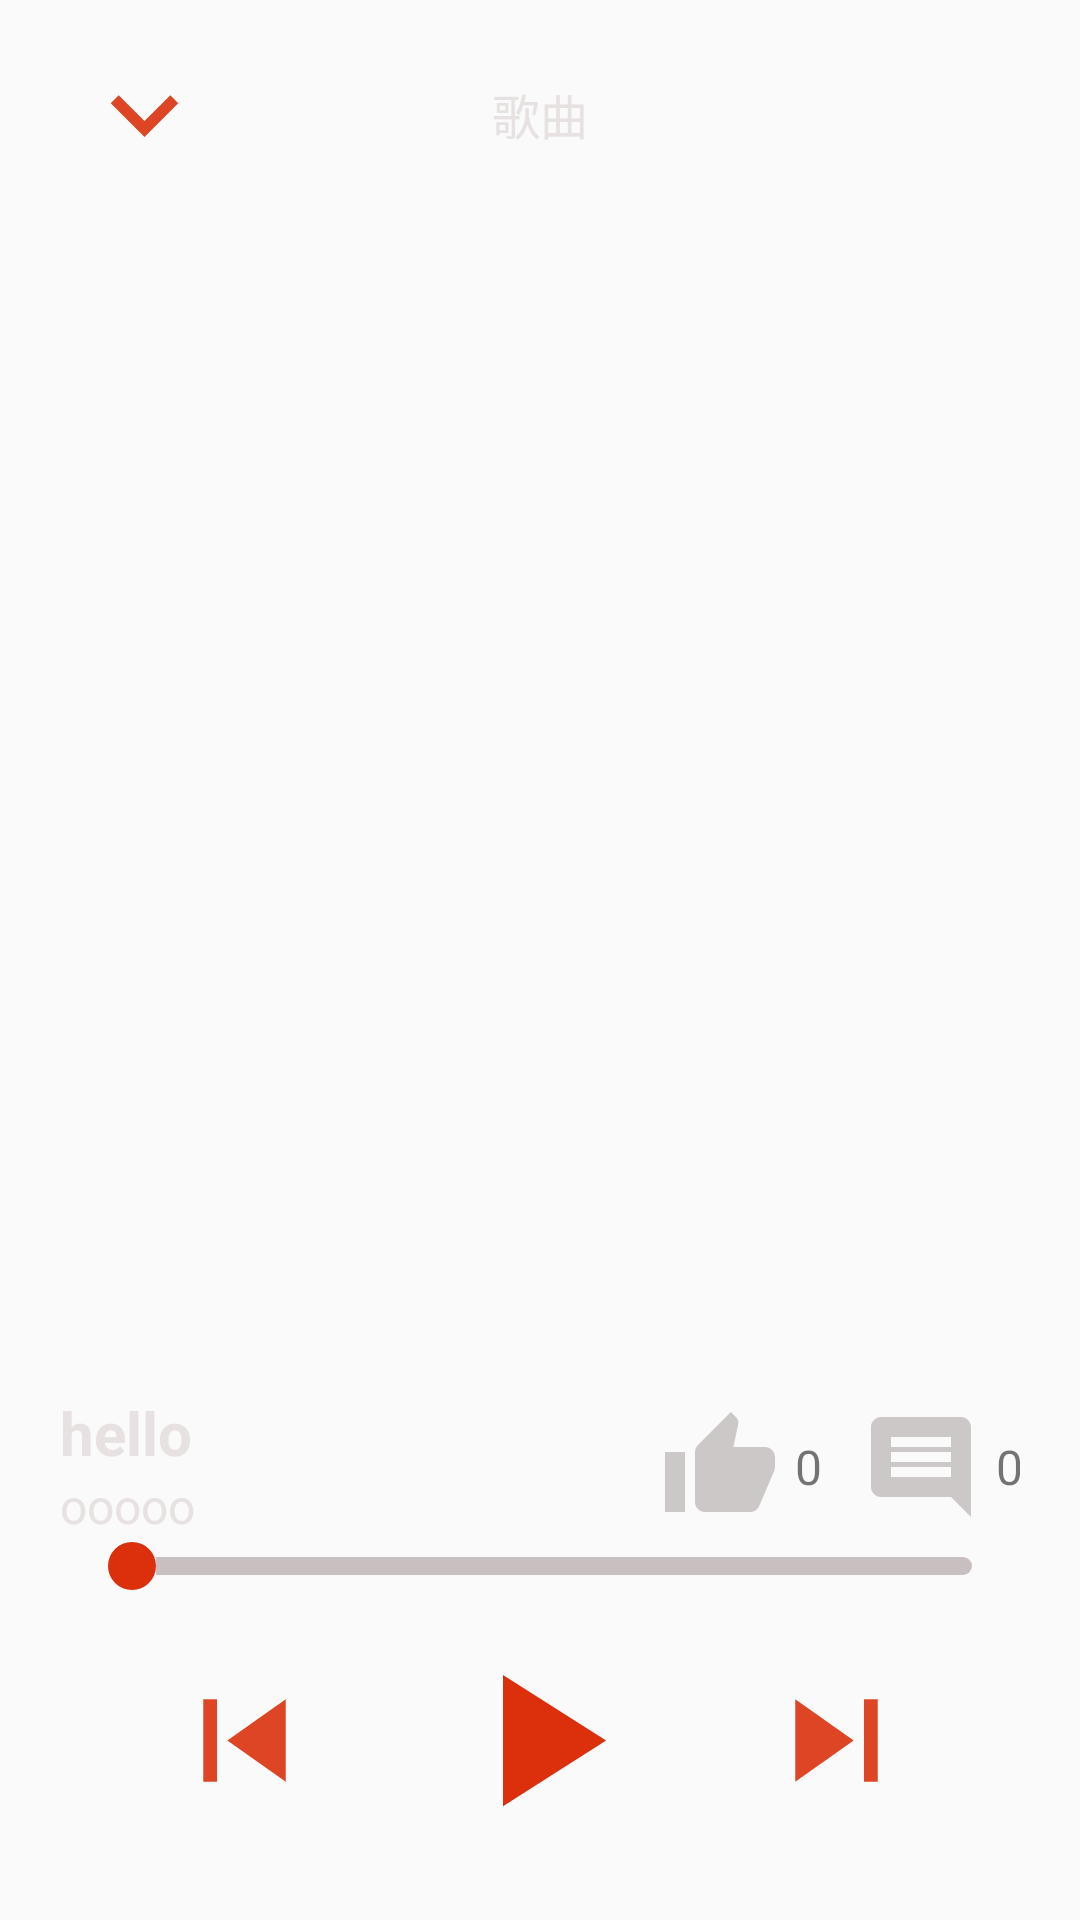

Icon click points for this 1080×1920 phone screenshot, format point (x, y):
comment: point (921, 1466)
play arrow: point (554, 1740)
skip next: point (836, 1740)
skip previous: point (244, 1740)
thumb up: point (720, 1462)
